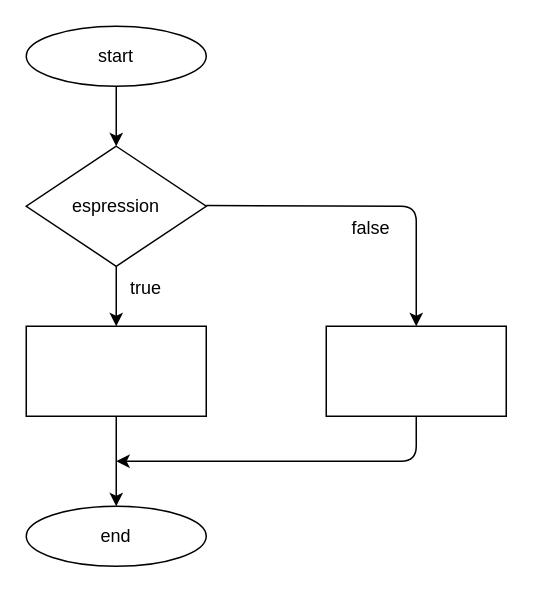
Image size: 533x593. Some labels were removed from this diagram. Each missing label, with the centre of its shape:
"statement else" belongs at [415,370].
"statement if" belongs at [115,370].
